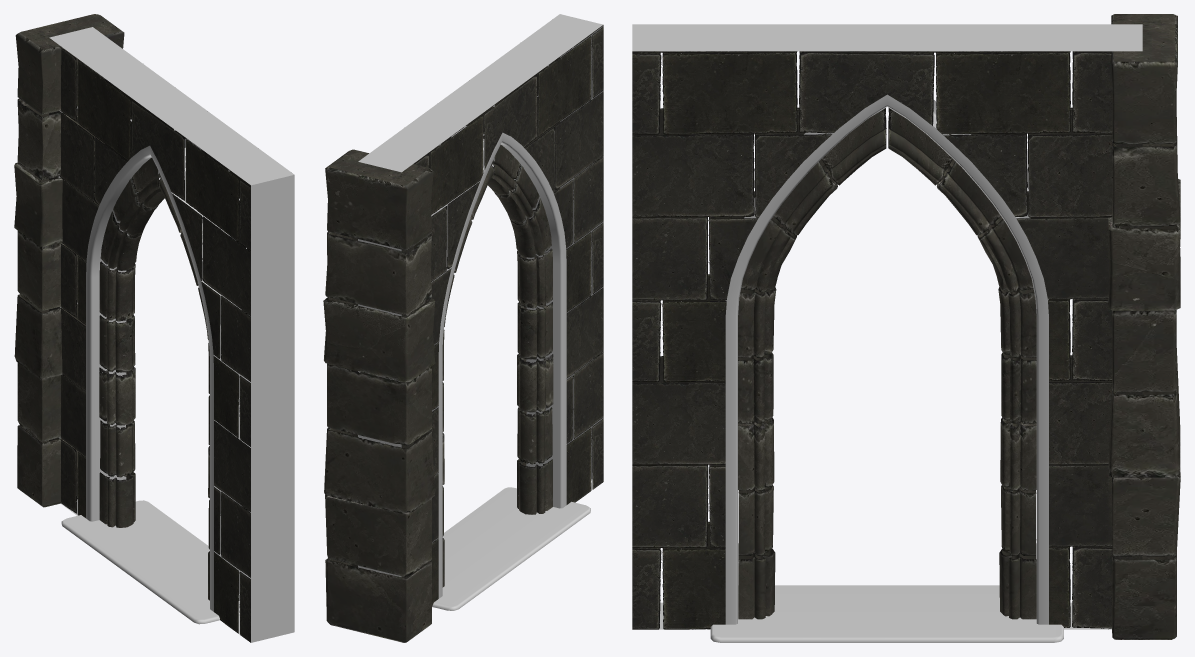
3 renders of one model, left to right at view 1: azimuth 30°, elevation 25°; view 2: azimuth 150°, elevation 25°; view 3: azimuth 270°, elevation 25°, orthographic. The views are drawn at different scales.
Parts seen in each view (by area): view 1: SM_Greathall_Lower_Arch_8x10_01_LOD0; view 2: SM_Greathall_Lower_Arch_8x10_01_LOD0; view 3: SM_Greathall_Lower_Arch_8x10_01_LOD0.
Boxes of the visible parts, x1,y1,x2,y2 form: SM_Greathall_Lower_Arch_8x10_01_LOD0: (14,14,294,642); SM_Greathall_Lower_Arch_8x10_01_LOD0: (323,14,603,642); SM_Greathall_Lower_Arch_8x10_01_LOD0: (632,14,1180,642).
Size of the model in its own units: 2 by 10 by 8.6.
